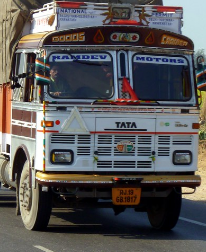truck: (1, 2, 199, 238)
